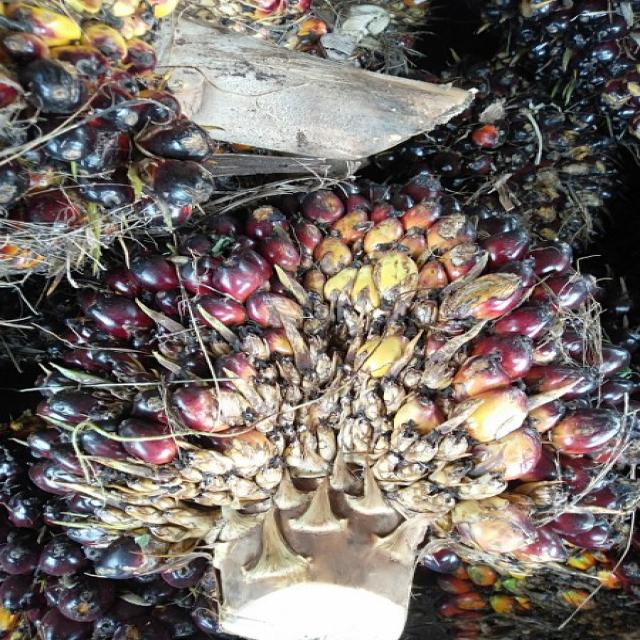fraksi 00: (44, 159, 633, 585)
